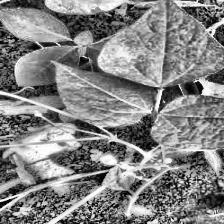ALS: (104, 0, 223, 84), (50, 70, 158, 129), (149, 95, 224, 151)
